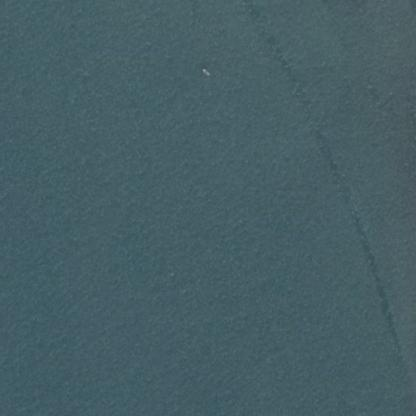ship: (32, 64, 46, 77)
